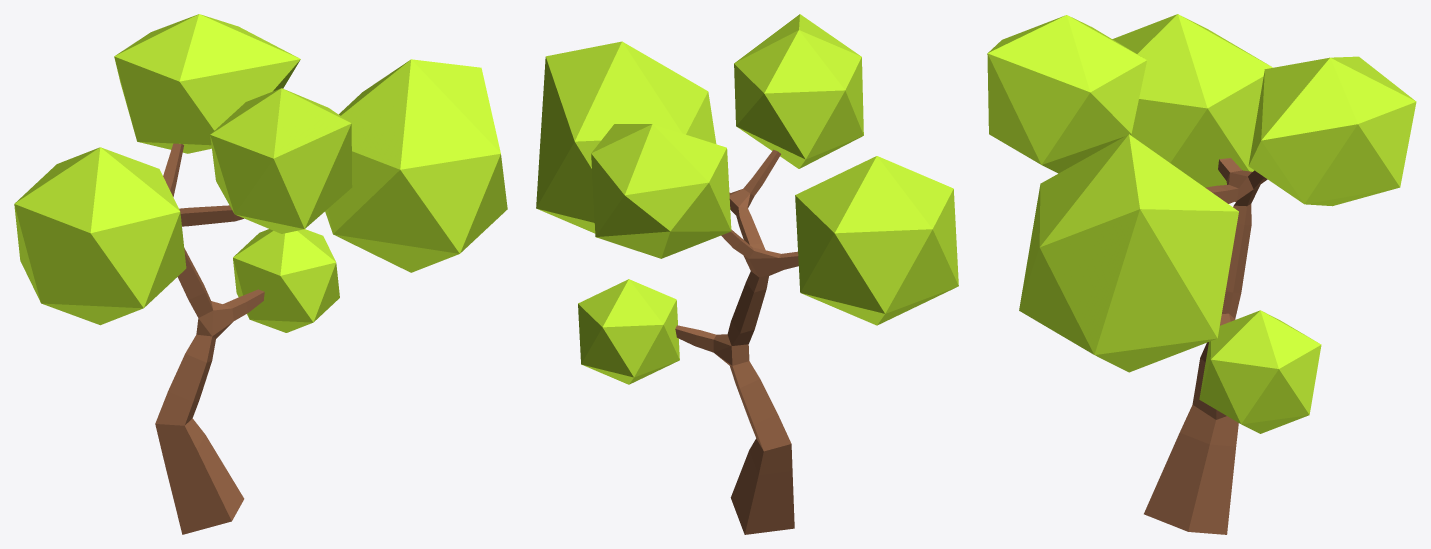
Rendered from ArbolBanano.fbx.
3 renders of one model, left to right at view 1: azimuth 30°, elevation 25°; view 2: azimuth 150°, elevation 25°; view 3: azimuth 270°, elevation 25°, orthographic. The views are drawn at different scales.
Parts seen in each view (by area): view 1: Hojas de Arbol7, Hojas de Arbol9, Hojas de Arbol8, Hojas de Arbol10, Rama De Arbol2, Hojas de Arbol6; view 2: Hojas de Arbol9, Hojas de Arbol7, Hojas de Arbol8, Hojas de Arbol10, Rama De Arbol2, Hojas de Arbol6; view 3: Hojas de Arbol7, Hojas de Arbol8, Hojas de Arbol10, Hojas de Arbol9, Rama De Arbol2, Hojas de Arbol6.
Part boxes in pixels (x1,y1,x2,y2): Hojas de Arbol7: (325, 59, 507, 272); Hojas de Arbol9: (14, 147, 186, 325); Hojas de Arbol8: (114, 14, 300, 153); Hojas de Arbol10: (210, 88, 352, 233); Rama De Arbol2: (155, 143, 264, 534); Hojas de Arbol6: (233, 229, 339, 332); Hojas de Arbol9: (795, 156, 958, 325); Hojas de Arbol7: (536, 41, 716, 233); Hojas de Arbol8: (591, 124, 731, 258); Hojas de Arbol10: (734, 14, 863, 168); Rama De Arbol2: (675, 149, 798, 534); Hojas de Arbol6: (578, 279, 679, 384); Hojas de Arbol7: (1019, 134, 1238, 372); Hojas de Arbol8: (1248, 56, 1416, 206); Hojas de Arbol10: (987, 15, 1146, 173); Hojas de Arbol9: (1112, 14, 1272, 187); Rama De Arbol2: (1144, 158, 1267, 534); Hojas de Arbol6: (1199, 310, 1321, 433).
Bounding box in the file's own units: 344 × 351 × 259.
